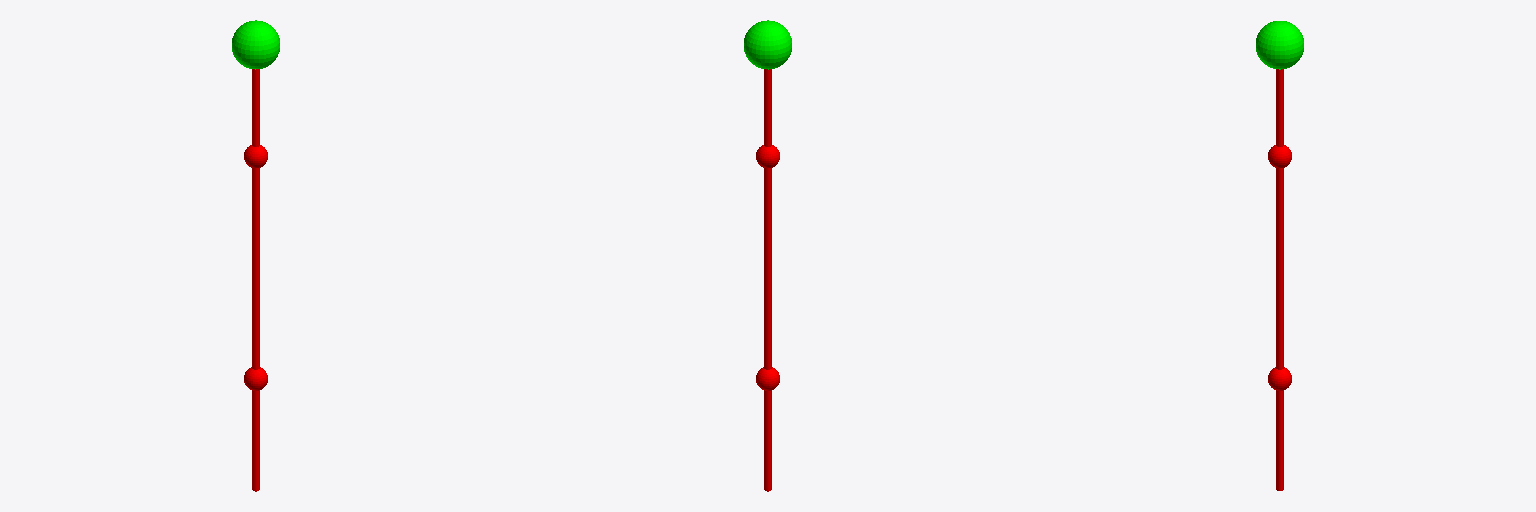
The robot description file, URDF, robot "KneedCompassGait":
<?xml version="1.0" ?>
<robot name="KneedCompassGait">
  
  <link name="base"/>
  <link name="base_x"/>
  <link name="base_xz"/>
  <link name="hip">
    <inertial>
      <mass value="10"/>
      <inertia ixx="0" ixy="0" ixz="0" iyy="0" iyz="0" izz="0"/>
    </inertial>
    <visual>
      <geometry>
        <sphere radius="0.05"/>
      </geometry>
      <material name="green">
        <color rgba="0 1 0 1"/>
      </material>
    </visual>
  </link>
  <link name="left_upper_leg">
    <visual>
      <origin xyz="0 0 -0.25"/>
      <geometry>
        <cylinder length="0.5" radius="0.0075"/>
      </geometry>
      <material name="red">
        <color rgba="1 0 0 1"/>
      </material>
    </visual>
  </link>
  <link name="left_upper_leg_mass">
    <visual>
      <origin xyz="0 0 -0.25"/>
      <geometry>
        <sphere radius="0.025"/>
      </geometry>
      <material name="red">
        <color rgba="1 0 0 1"/>
      </material>
    </visual>
    <inertial>
      <origin xyz="0 0 -0.25"/>
      <mass value="2.5"/>
      <inertia ixx="0" ixy="0" ixz="0" iyy="0" iyz="0" izz="0"/>
    </inertial>
  </link>
  <joint name="left_upper_leg_mass_weld" type="fixed">
    <parent link="left_upper_leg"/>
    <child link="left_upper_leg_mass"/>
  </joint>
  <link name="left_lower_leg">
    <visual>
      <origin xyz="0 0 -0.25"/>
      <geometry>
        <cylinder length="0.5" radius="0.0075"/>
      </geometry>
      <material name="red">
        <color rgba="1 0 0 1"/>
      </material>
    </visual>
    <collision>
      <origin xyz="0 0 -0.5"/>
      <geometry>
        <sphere radius="0"/>
      </geometry>
    </collision>
  </link>
  <link name="left_lower_leg_mass">
    <visual>
      <origin xyz="0 0 -0.25"/>
      <geometry>
        <sphere radius="0.025"/>
      </geometry>
      <material name="red">
        <color rgba="1 0 0 1"/>
      </material>
    </visual>
    <inertial>
      <origin xyz="0 0 -0.25"/>
      <mass value="2.5"/>
      <inertia ixx="0" ixy="0" ixz="0" iyy="0" iyz="0" izz="0"/>
    </inertial>
  </link>
  <joint name="left_lower_leg_mass_weld" type="fixed">
    <parent link="left_lower_leg"/>
    <child link="left_lower_leg_mass"/>
  </joint>
  <link name="right_upper_leg">
    <visual>
      <origin xyz="0 0 -0.25"/>
      <geometry>
        <cylinder length="0.5" radius="0.0075"/>
      </geometry>
      <material name="blue">
        <color rgba="0 0 1 1"/>
      </material>
    </visual>
  </link>
  <link name="right_upper_leg_mass">
    <visual>
      <origin xyz="0 0 -0.25"/>
      <geometry>
        <sphere radius="0.025"/>
      </geometry>
      <material name="blue">
        <color rgba="0 0 1 1"/>
      </material>
    </visual>
    <inertial>
      <origin xyz="0 0 -0.25"/>
      <mass value="2.5"/>
      <inertia ixx="0" ixy="0" ixz="0" iyy="0" iyz="0" izz="0"/>
    </inertial>
  </link>
  <joint name="right_upper_leg_mass_weld" type="fixed">
    <parent link="right_upper_leg"/>
    <child link="right_upper_leg_mass"/>
  </joint>
  <link name="right_lower_leg">
    <visual>
      <origin xyz="0 0 -0.25"/>
      <geometry>
        <cylinder length="0.5" radius="0.0075"/>
      </geometry>
      <material name="blue">
        <color rgba="0 0 1 1"/>
      </material>
    </visual>
    <collision>
      <origin xyz="0 0 -0.5"/>
      <geometry>
        <sphere radius="0"/>
      </geometry>
    </collision>
  </link>
  <link name="right_lower_leg_mass">
    <visual>
      <origin xyz="0 0 -0.25"/>
      <geometry>
        <sphere radius="0.025"/>
      </geometry>
      <material name="blue">
        <color rgba="0 0 1 1"/>
      </material>
    </visual>
    <inertial>
      <origin xyz="0 0 -0.25"/>
      <mass value="2.5"/>
      <inertia ixx="0" ixy="0" ixz="0" iyy="0" iyz="0" izz="0"/>
    </inertial>
  </link>
  <joint name="planar_x" type="prismatic">
    <parent link="base"/>
    <child link="base_x"/>
    <axis xyz="1 0 0"/>
  </joint>
  <joint name="planar_z" type="prismatic">
    <parent link="base_x"/>
    <child link="base_xz"/>
    <axis xyz="0 0 1"/>
  </joint>  
  <joint name="planar_roty" type="fixed">
    <parent link="base_xz"/>
    <child link="hip"/>
    <axis xyz="0 1 0"/>
  </joint>
  <joint name="right_lower_leg_mass_weld" type="fixed">
    <parent link="right_lower_leg"/>
    <child link="right_lower_leg_mass"/>
  </joint>
  <joint name="left_leg_weld" type="continuous">
    <parent link="hip"/>
    <child link="left_upper_leg"/>
     <axis xyz="0 1 0"/>
  </joint>
  <joint name="hip_pin" type="continuous">
    <parent link="hip"/>
    <child link="right_upper_leg"/>
    <axis xyz="0 1 0"/>
  </joint>
  <joint name="left_knee_pin" type="continuous">
    <parent link="left_upper_leg"/>
    <child link="left_lower_leg"/>
    <axis xyz="0 1 0"/>
    <origin xyz="0 0 -0.5"/>
    <limit effort="100"/>
  </joint>
  <joint name="right_knee_pin" type="revolute">
    <parent link="right_upper_leg"/>
    <child link="right_lower_leg"/>
    <axis xyz="0 1 0"/>
    <origin xyz="0 0 -0.5"/>
    <limit effort="100"/>
  </joint>
  
    <transmission name="hip_trans2" type="SimpleTransmission">
    <actuator name="hip_torque2"/>
    <joint name="left_leg_weld"/>
    <mechanicalReduction>1</mechanicalReduction>
  </transmission>
  <transmission name="hip_trans" type="SimpleTransmission">
    <actuator name="hip_torque"/>
    <joint name="hip_pin"/>
    <mechanicalReduction>1</mechanicalReduction>
  </transmission>
  <transmission name="left_knee_trans" type="SimpleTransmission">
    <actuator name="left_knee_torque"/>
    <joint name="left_knee_pin"/>
    <mechanicalReduction>1</mechanicalReduction>
  </transmission>
  <transmission name="right_knee_trans" type="SimpleTransmission">
    <actuator name="right_knee_torque"/>
    <joint name="right_knee_pin"/>
    <mechanicalReduction>1</mechanicalReduction>
  </transmission>
  <collision_filter_group name="robot_links">
    <member link="left_lower_leg_mass"/>
    <member link="right_lower_leg_mass"/>
    <member link="left_lower_leg"/>
    <member link="right_lower_leg"/>
    <member link="right_upper_leg"/>
    <member link="left_upper_leg"/>
    <member link="hip"/>
    <ignored_collision_filter_group collision_filter_group="robot_links"/>
  </collision_filter_group>
</robot>

--- Render facts (derived) ---
Views: 3 orthographic renders of the robot side by side, from view 1: azimuth 30°, elevation 25°; view 2: azimuth 150°, elevation 25°; view 3: azimuth 270°, elevation 25°.
Robot: KneedCompassGait — 12 links, 11 joints (1 revolute, 3 continuous, 2 prismatic, 5 fixed); root link base; default pose: all joints at 0.
Visible links, largest first — view 1: hip, left_lower_leg, left_upper_leg; view 2: hip, left_lower_leg, left_upper_leg; view 3: hip, left_lower_leg, left_upper_leg.
Link boxes in pixels (left/top/right/bottom): hip: left=232, top=20, right=279, bottom=69; left_lower_leg: left=252, top=268, right=259, bottom=491; left_upper_leg: left=252, top=69, right=259, bottom=268; hip: left=744, top=20, right=791, bottom=69; left_lower_leg: left=764, top=268, right=771, bottom=491; left_upper_leg: left=764, top=69, right=771, bottom=268; hip: left=1256, top=21, right=1303, bottom=69; left_lower_leg: left=1276, top=268, right=1283, bottom=490; left_upper_leg: left=1276, top=69, right=1283, bottom=268.
Size in the robot's own frame: 0.1 by 0.1 by 1.05 metres.
Geometry: primitives only (box / cylinder / sphere), no mesh files.
